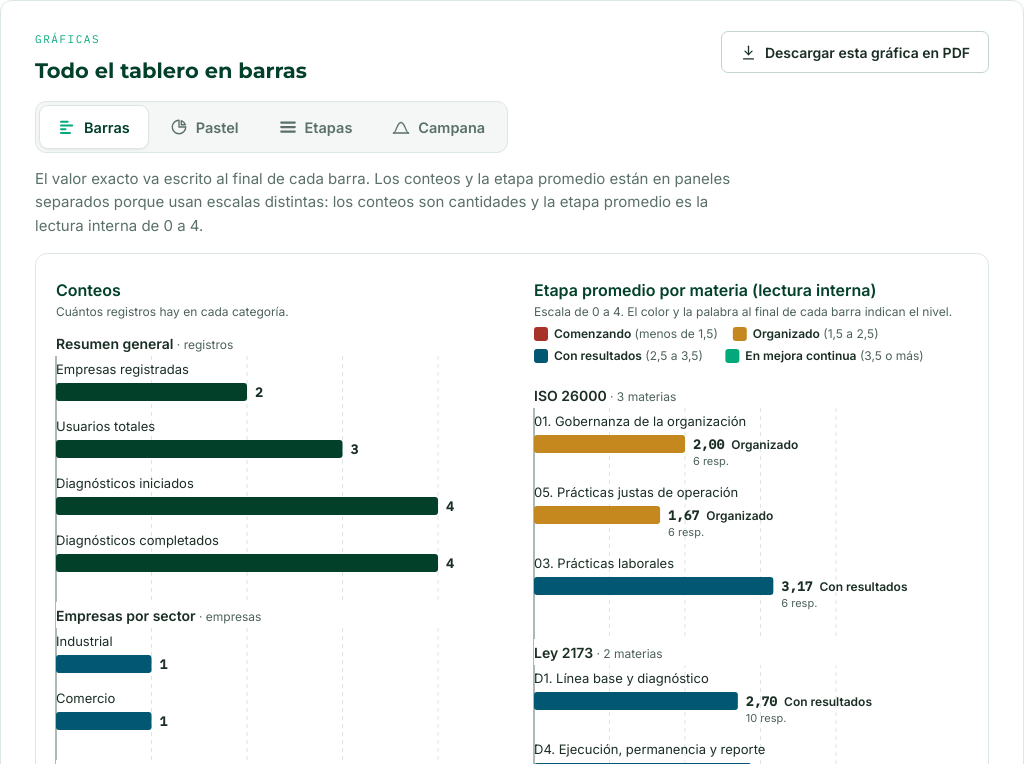
Test: panel de gráficas › los datos de cada gráfica están también en una tabla
The width and height of the screenshot is (1024, 764).
Click the tab "Pastel".
click(204, 127)  # box [152, 106, 257, 148]
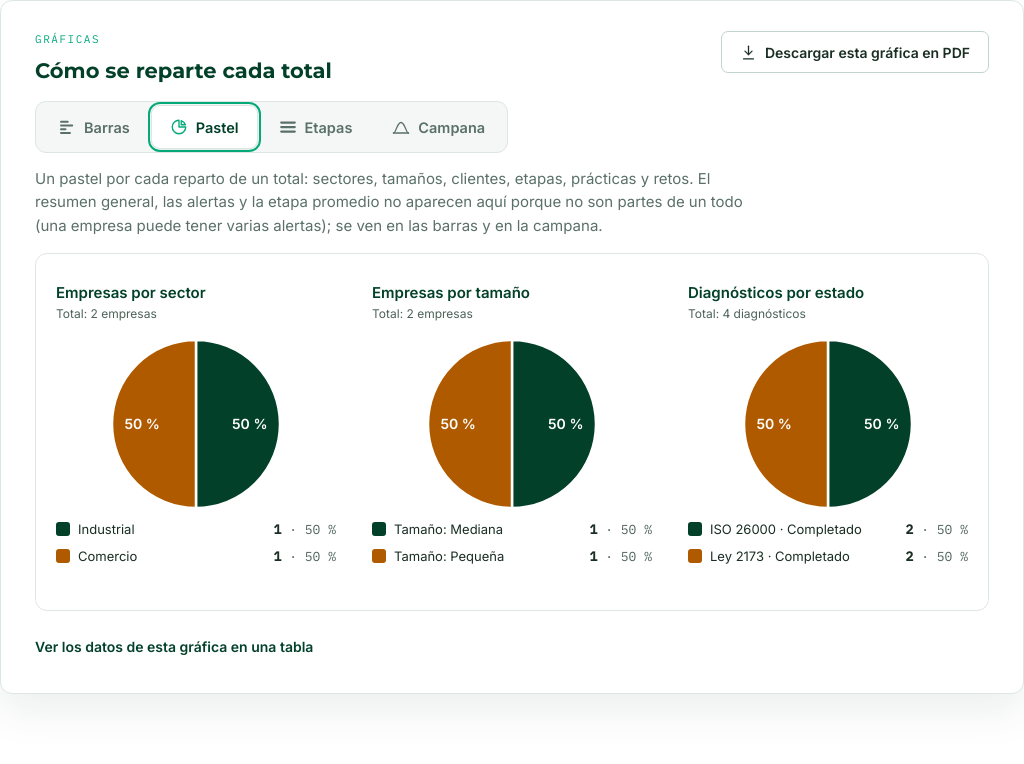
Click the heading "Ver los datos de esta gráfica en una tabla".
click(174, 647)  # box [35, 638, 313, 655]
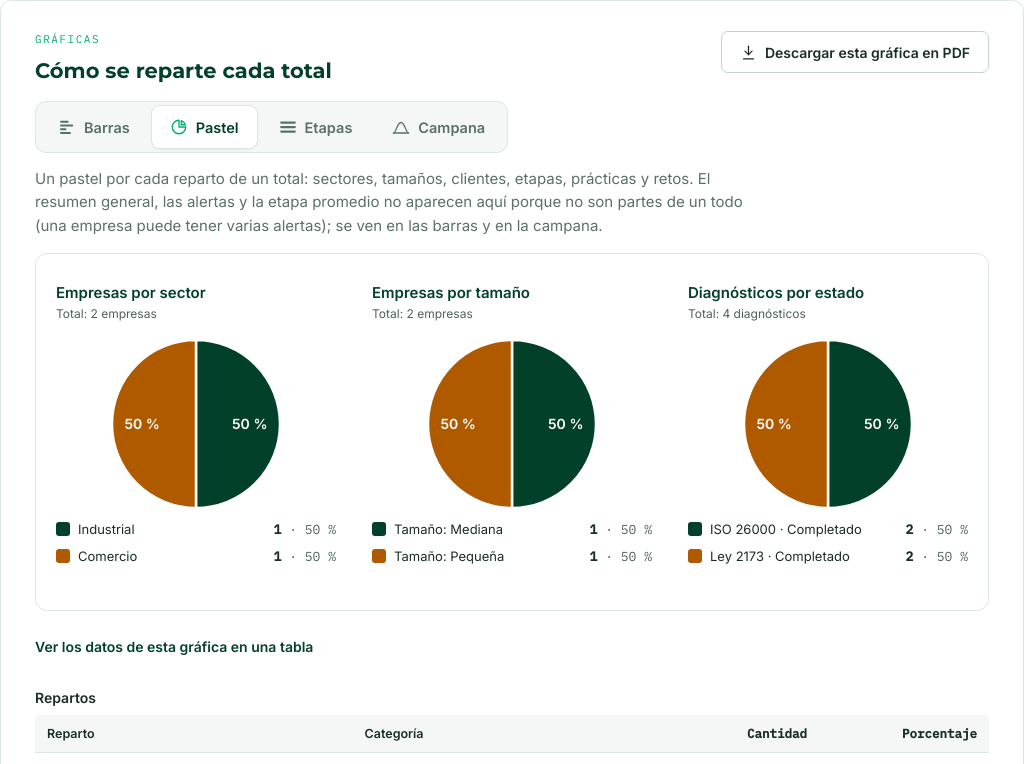
Result: the number of rows is 7
Result: the text "50 %" is shown 6 times
